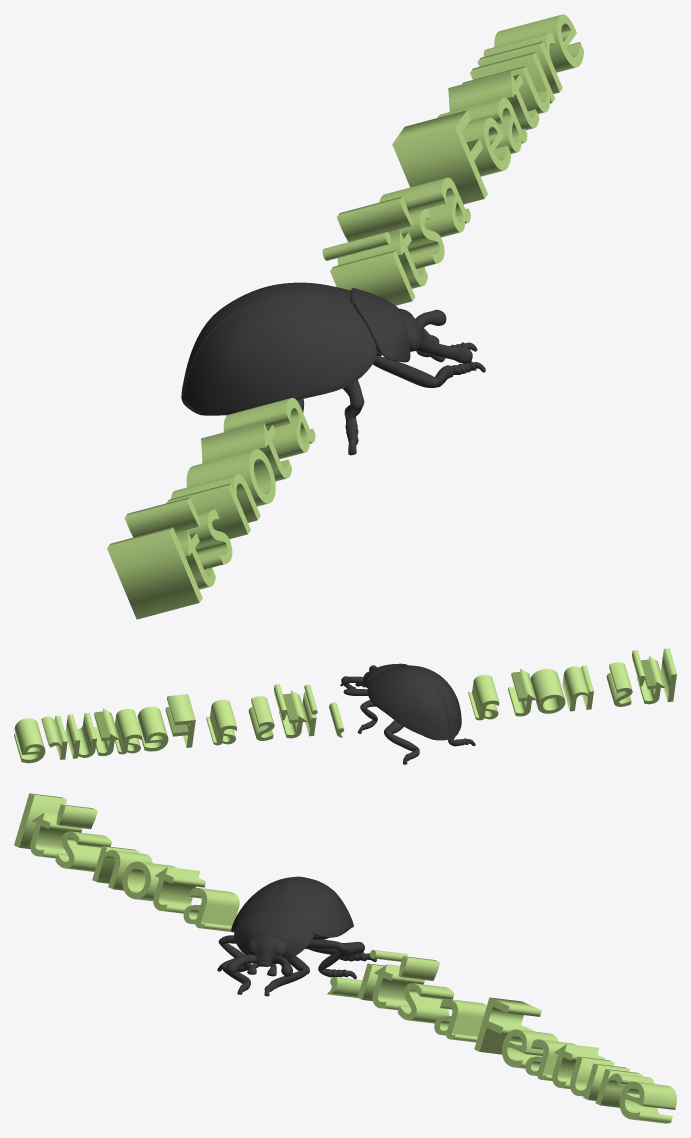
The model's file is Bug_Feature.fbx.
The picture shows the model from 3 angles, top to bottom: view 1: azimuth 30°, elevation 25°; view 2: azimuth 150°, elevation 25°; view 3: azimuth 270°, elevation 25°; orthographic projection. The views are drawn at different scales.
Parts seen in each view (by area): view 1: Text, Ladybug.005; view 2: Text, Ladybug.005; view 3: Text, Ladybug.005.
Part boxes in pixels (x1=…): Text: x1=107, y1=14, x2=583, y2=619; Ladybug.005: x1=181, y1=282, x2=485, y2=455; Text: x1=14, y1=648, x2=676, y2=763; Ladybug.005: x1=340, y1=663, x2=475, y2=764; Text: x1=14, y1=793, x2=676, y2=1123; Ladybug.005: x1=217, y1=876, x2=376, y2=996.
Bounding box in the file's own units: 401 × 63.3 × 375.
